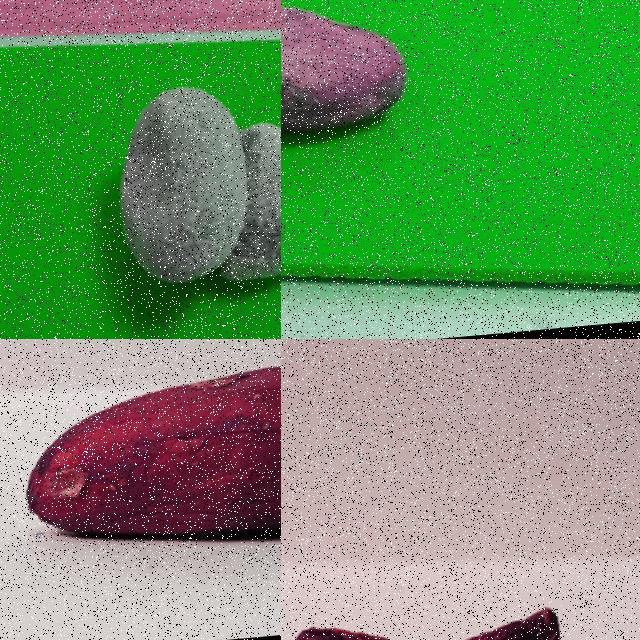Agglomerated_cocoabeans: (1, 50, 280, 338)
Fine_cocoabeans: (5, 339, 280, 595), (281, 0, 423, 217)
Flat_cocoabeans: (281, 557, 634, 639)
